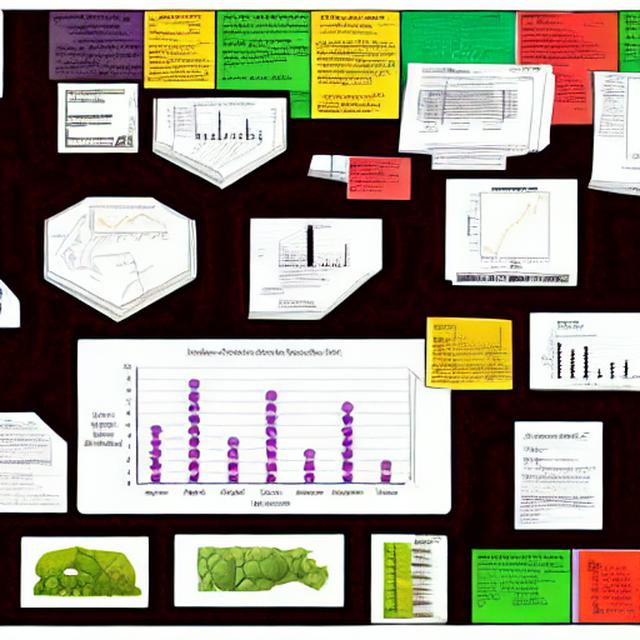Graph: (80, 344, 406, 512), (457, 182, 570, 267), (179, 100, 266, 152), (538, 333, 621, 387), (83, 205, 162, 253), (451, 29, 515, 64)
